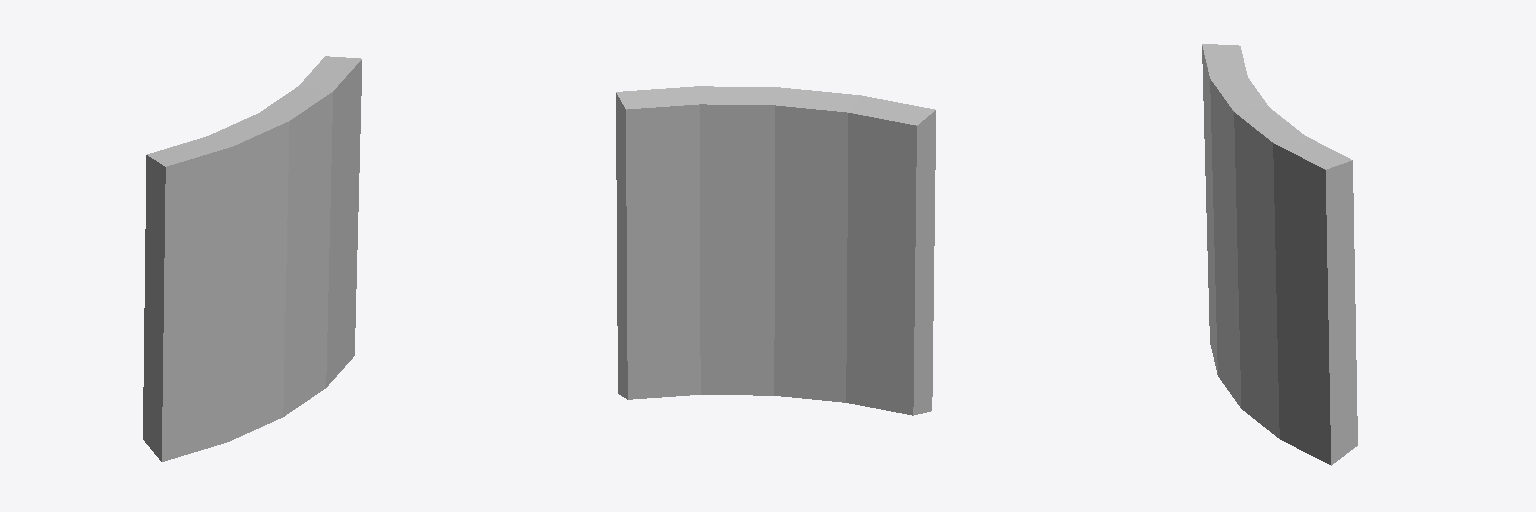
The model's file is Level_1_4.obj.
The picture shows the model from 3 angles: view 1: azimuth 30°, elevation 25°; view 2: azimuth 150°, elevation 25°; view 3: azimuth 270°, elevation 25°; orthographic projection.
Parts seen in each view (by area): view 1: Level_1_4_Cylinder.014; view 2: Level_1_4_Cylinder.014; view 3: Level_1_4_Cylinder.014.
Part boxes in pixels (bbox=[...]): Level_1_4_Cylinder.014: bbox=[143, 56, 361, 461]; Level_1_4_Cylinder.014: bbox=[616, 86, 935, 415]; Level_1_4_Cylinder.014: bbox=[1202, 44, 1357, 465].
Size of the model in its own units: 1.7 by 1.88 by 0.8892.